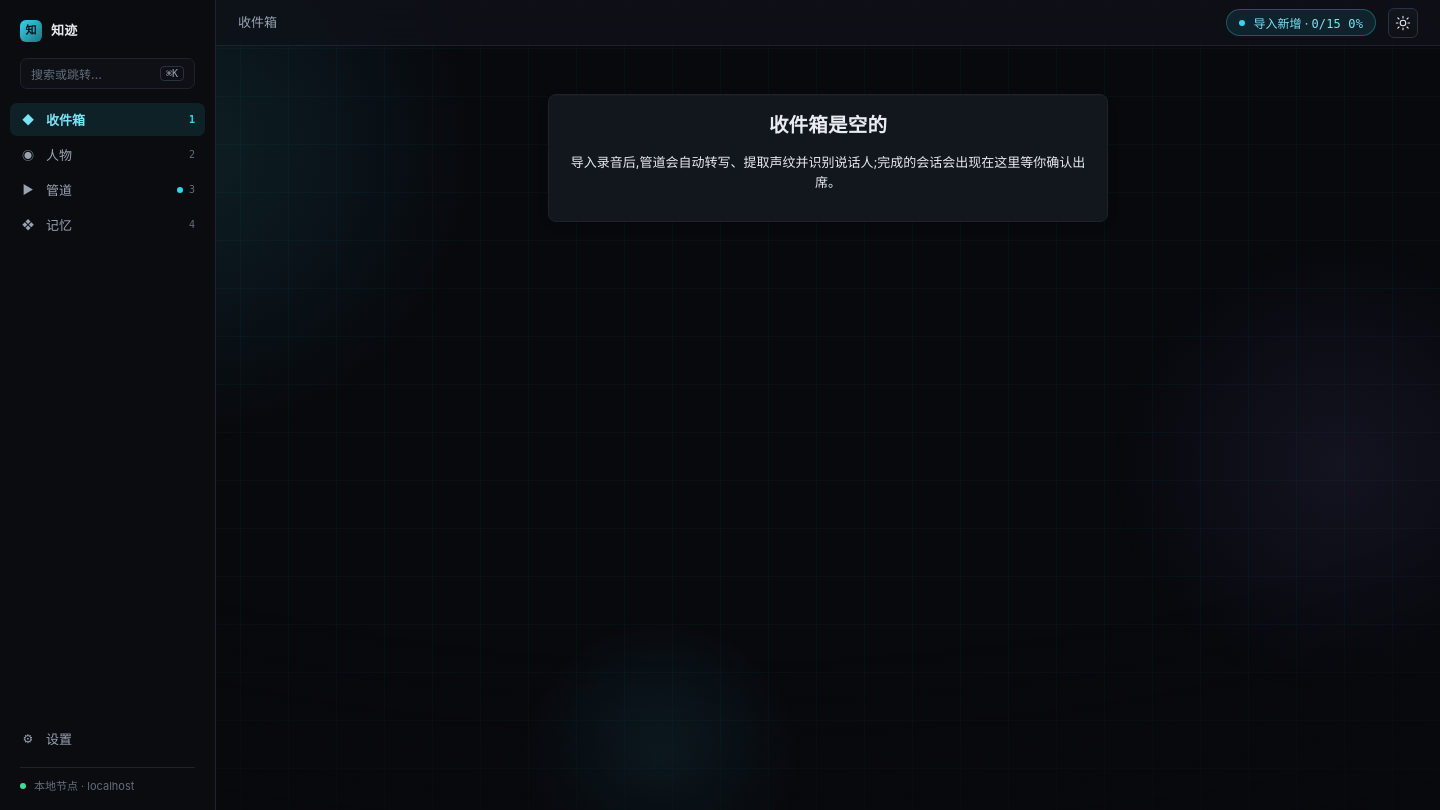
Test: App container › separates scanned duplicates from the new-file import denominator
Click the tab "▶ 管道 3".
click(108, 190)  # box top-left (10, 173), bottom-right (205, 206)
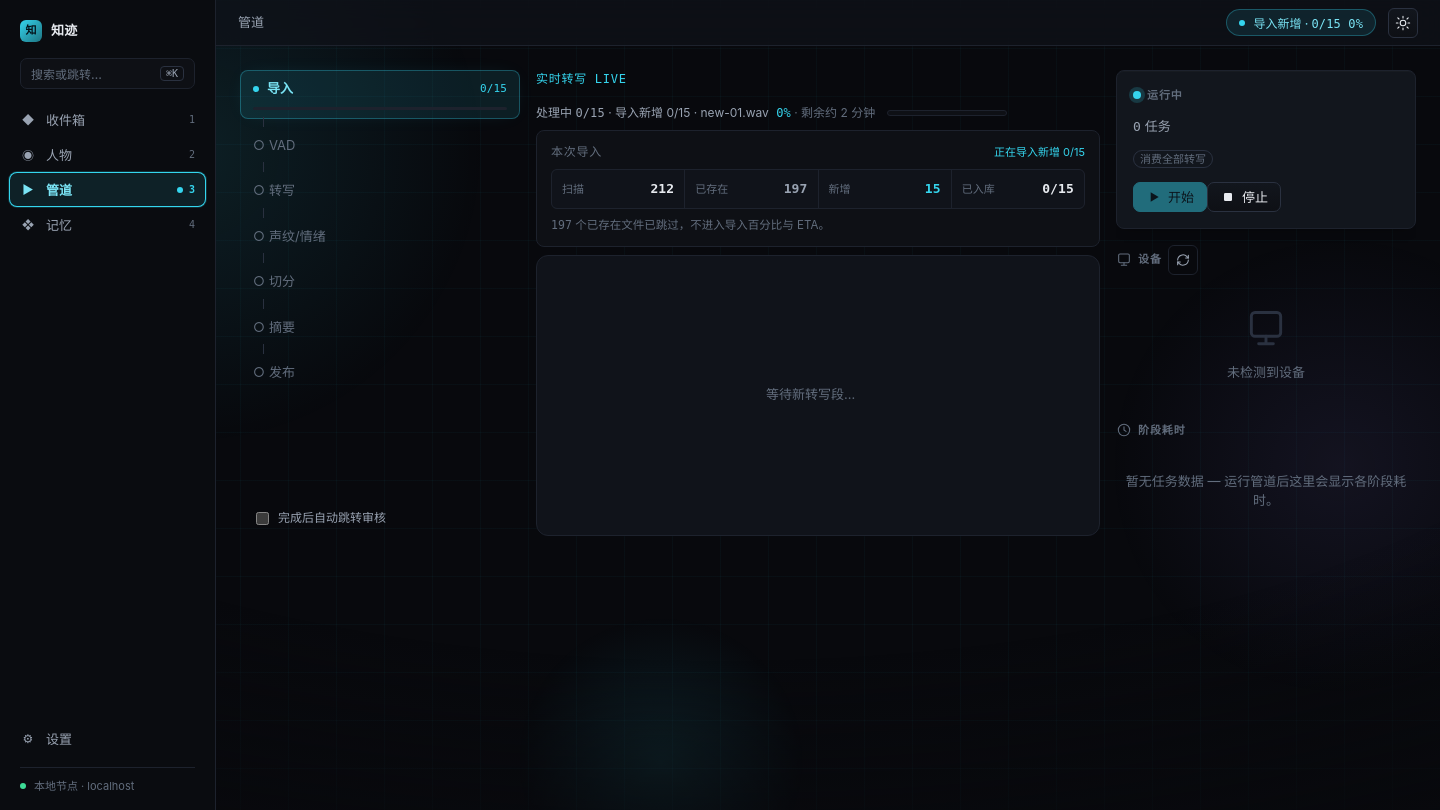
Expected: the element named "本次导入判定" shows "197 个已存在文件已跳过，不进入导入百分比与 ETA", top-left (536, 130), bottom-right (1100, 247)
